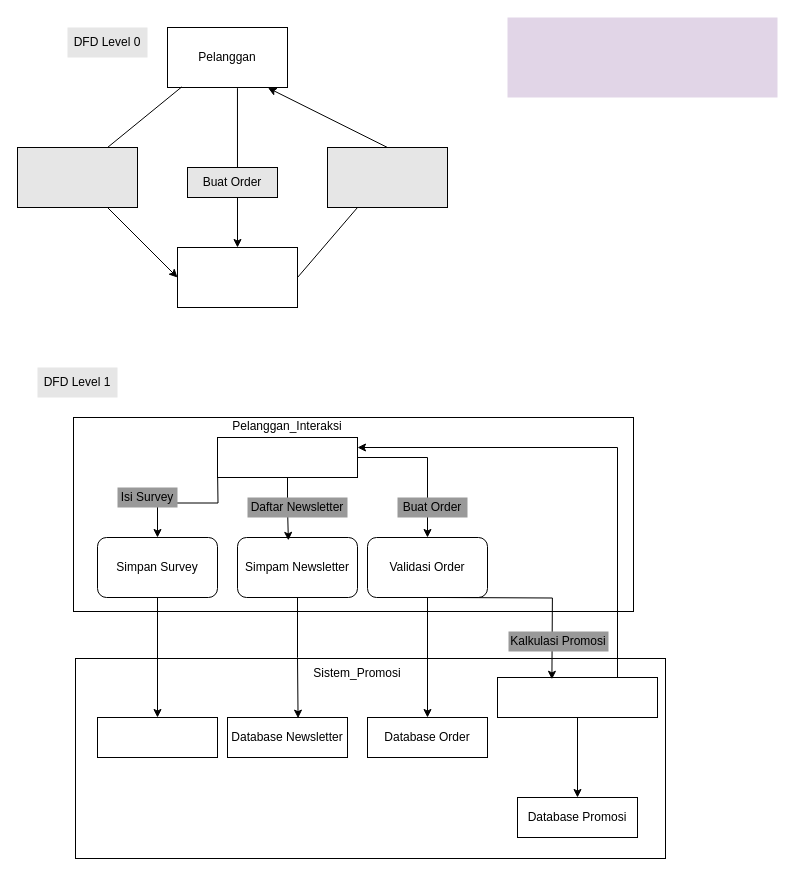
Some shapes in this 795 by 876 pixel diagram are drawn without their labels. The box of each missing label's shape, as (x1, y1, x2, y2) in pixels:
Berikan Informasi Diskon/Kredit: (326, 146, 448, 208)
Database Survey: (96, 716, 218, 758)
Informasi Diskon/Kredit: (216, 436, 358, 478)
Isi survey/Daftar Newsletter: (16, 146, 138, 208)
Nama : Nuraida Naelia Masfufah NIM : 12030123140219 Kelas : C: (507, 17, 777, 97)
Perhitungan Diskon/Kredit: (496, 676, 658, 718)
Sistem Promosi: (176, 246, 298, 308)
